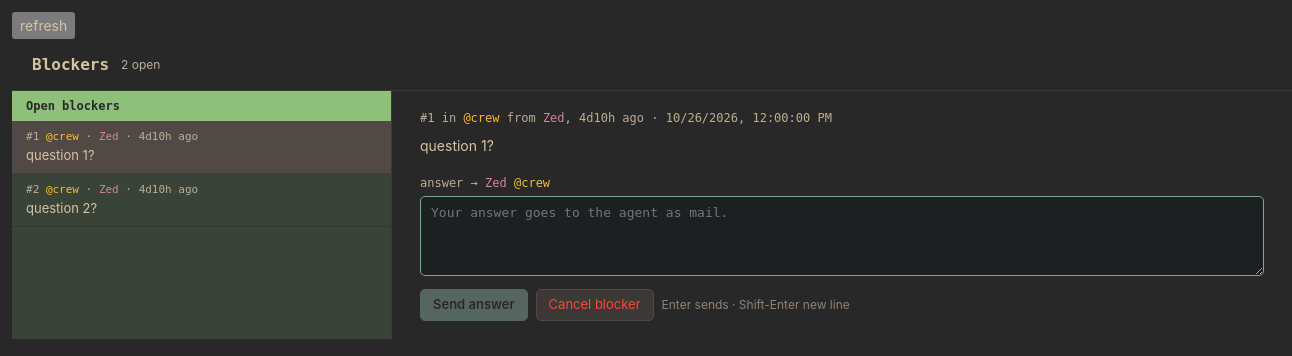
blockers › focuses each selected answer, including a second click on the same row
Type "first draft" into the text box with placeholder "Your answer goes to the agent as mail." at (842,236), box [420, 196, 1264, 276]
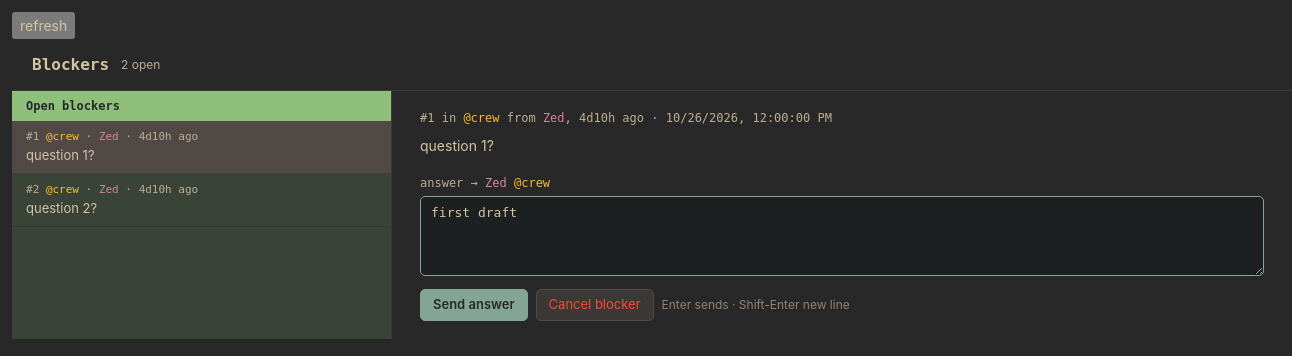
Click the text "question 2?" at (62,208), box [26, 200, 97, 216]
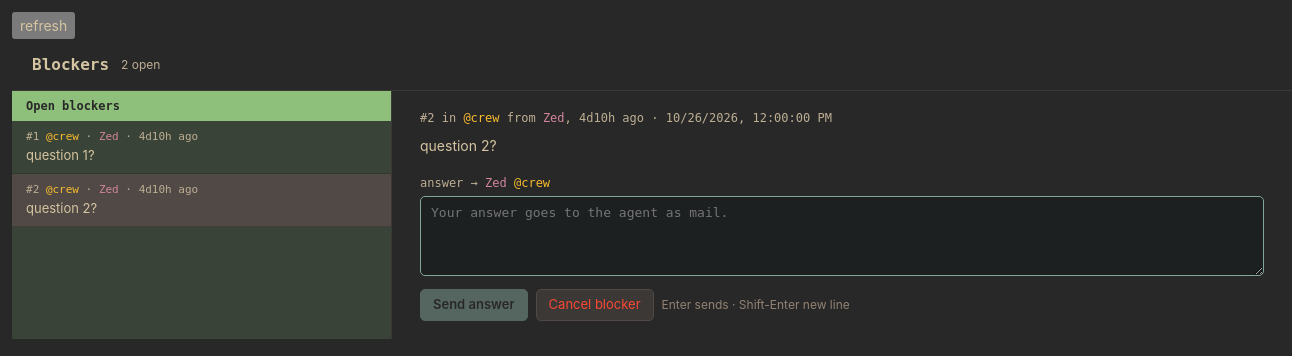
Type "second draft" into the text box with placeholder "Your answer goes to the agent as mail." at (842,236), box [420, 196, 1264, 276]
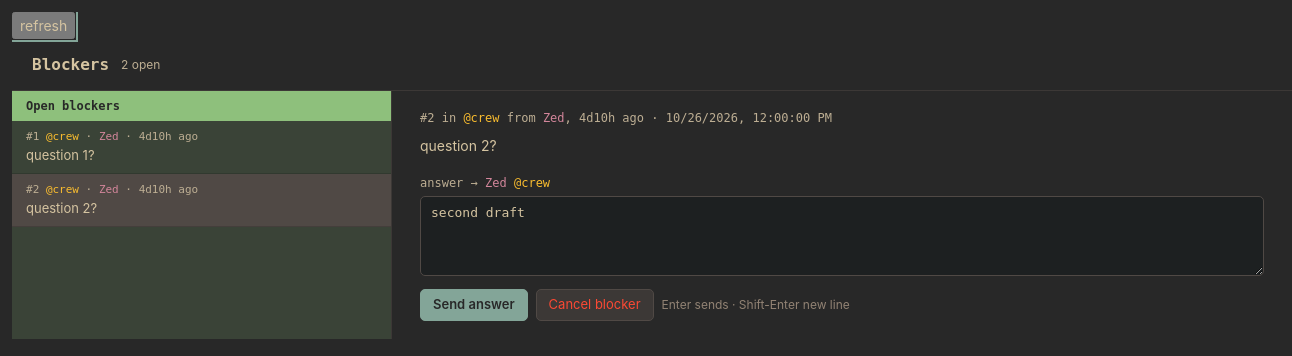
Click the text "question 2?" below "question 1?" at (62,208), box [26, 200, 97, 216]
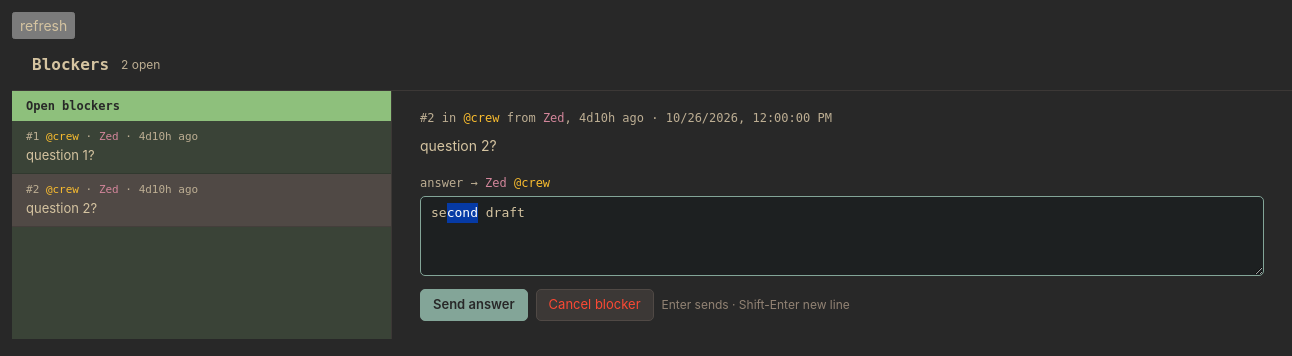
Click the text "question 1?" at (60,154), box [26, 146, 95, 162]
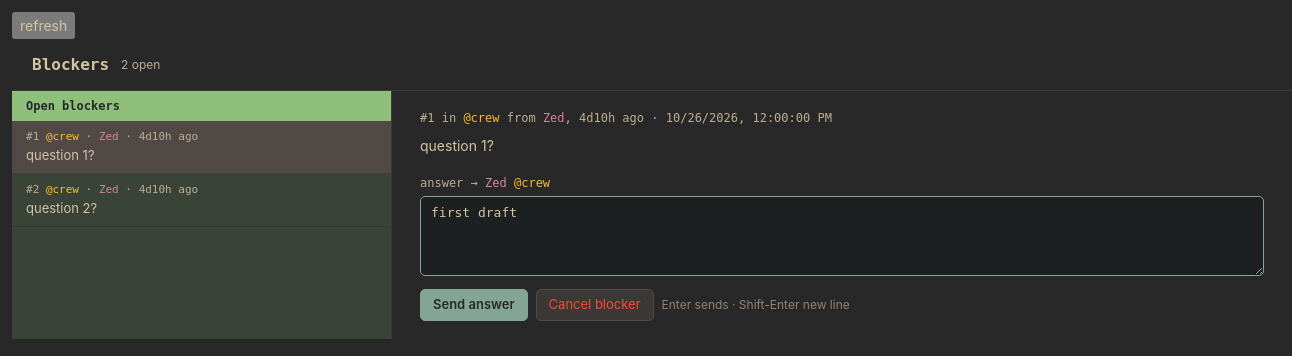
Expected: the text box with placeholder "Your answer goes to the agent as mail." holds "first draft", [420, 196, 1264, 276]
